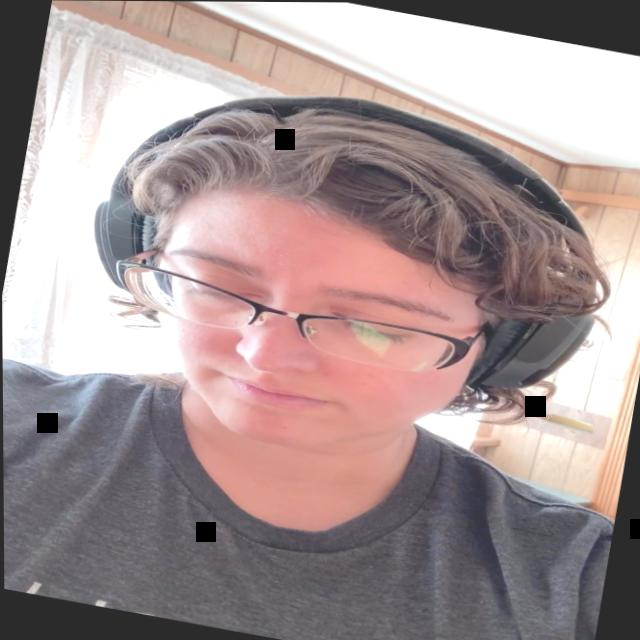NO-Mask: (121, 166, 524, 482)
